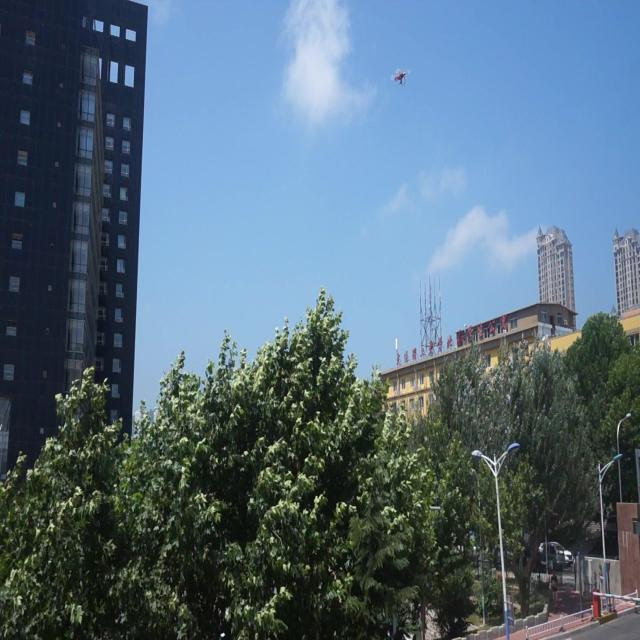drone: (388, 66, 412, 90)
